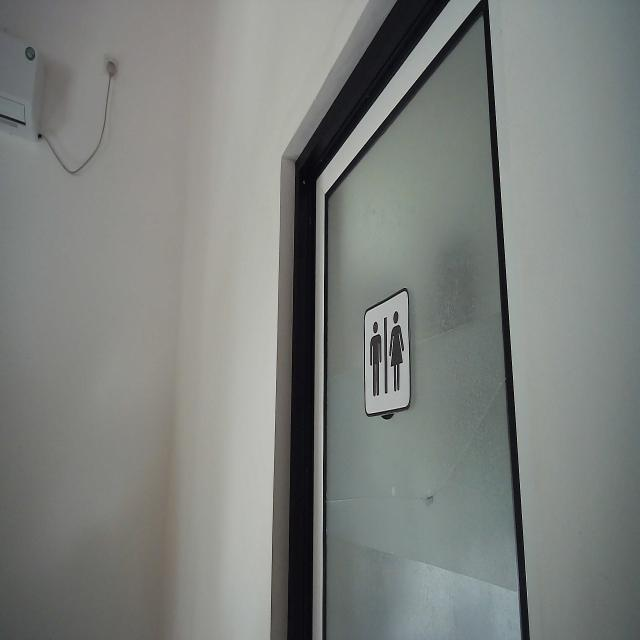restroom: (362, 285, 414, 420)
